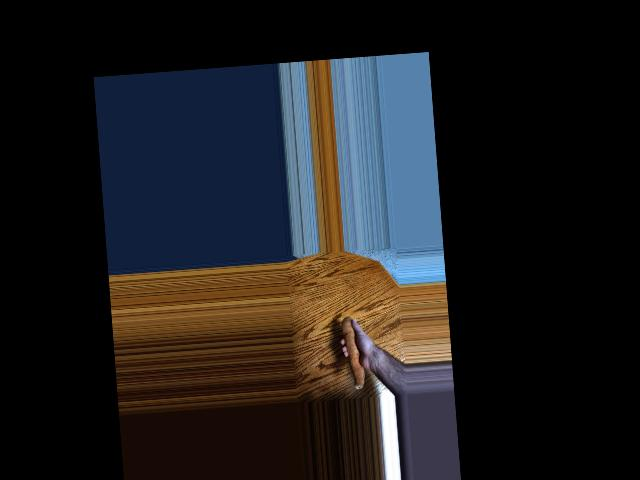sweet_potato: (338, 316, 367, 390)
